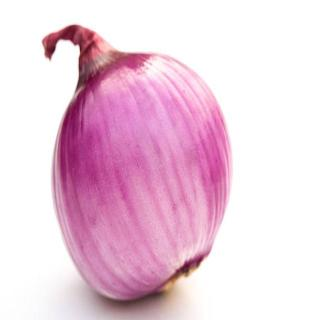Bawang Merah: (40, 22, 236, 304)
